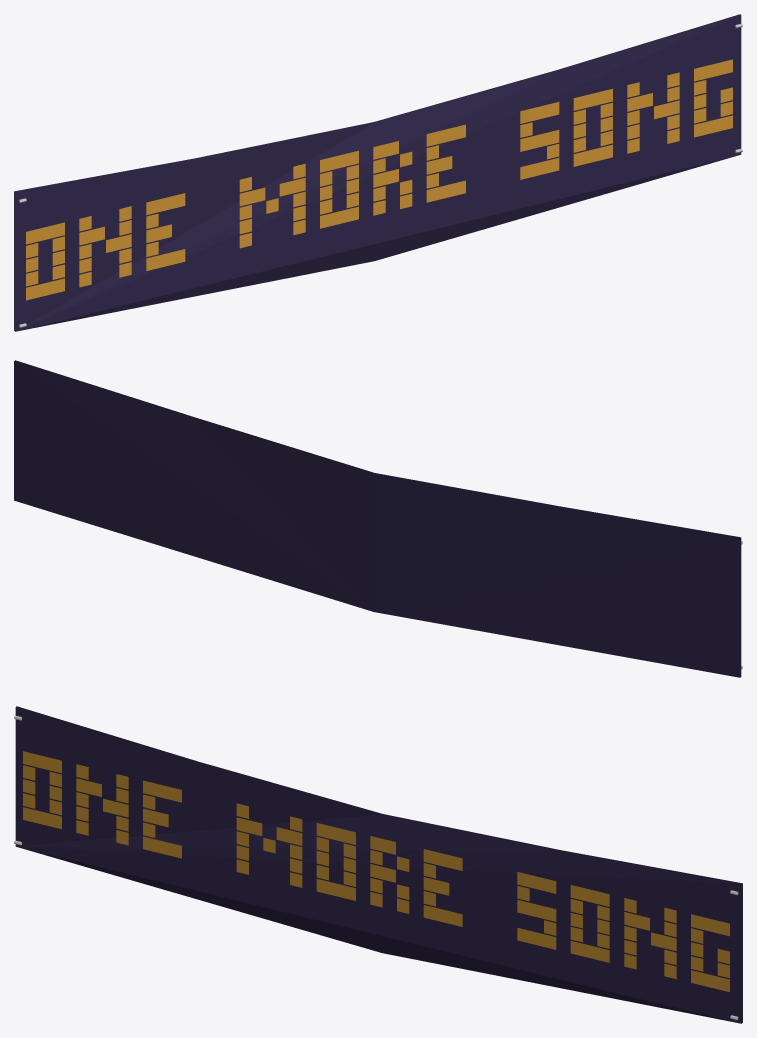
File: OneMoreSongBanner.obj
3 views of the same model, one above another, from view 1: azimuth 30°, elevation 25°; view 2: azimuth 150°, elevation 25°; view 3: azimuth 330°, elevation 25° (orthographic).
Visible parts, largest first — view 1: OneMoreSongBanner; view 2: OneMoreSongBanner; view 3: OneMoreSongBanner.
Boxes of the visible parts, x1,y1,x2,y2 form: OneMoreSongBanner: (14,14,742,331); OneMoreSongBanner: (14,360,742,677); OneMoreSongBanner: (14,706,742,1023).
Size of the model in its own units: 5.6 by 1.18 by 0.104.
Materials: 1 (1 with a texture image).
